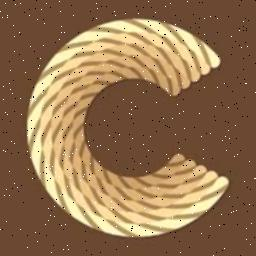c: (16, 6, 234, 246)
